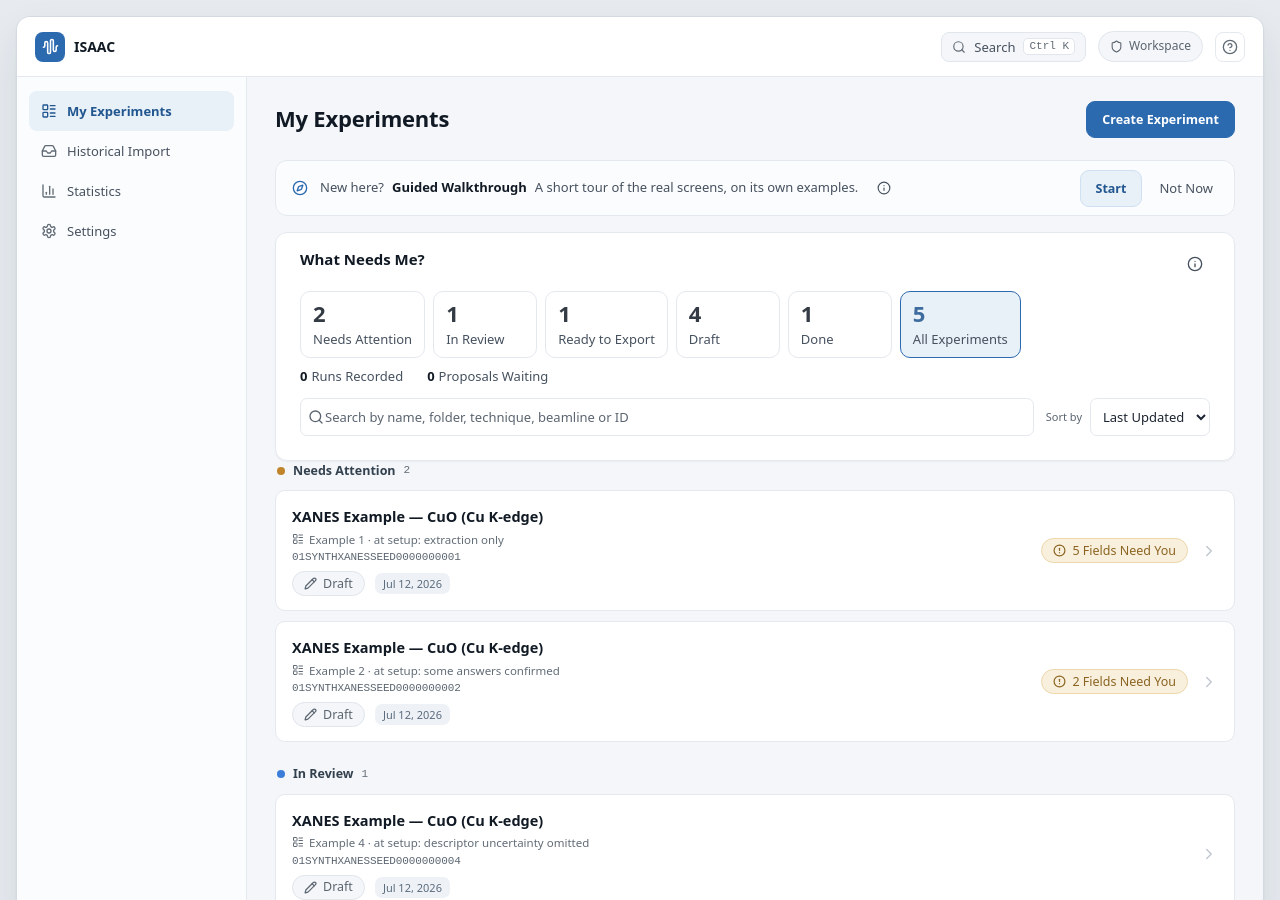
Test case: R0 · the first-run offer on My Experiments › "Skip for Now" hides the offer WITHOUT marking it complete and without nagging
Check: the heading "Guided Walkthrough" is shown, box [392, 179, 527, 197]
What coordinates should you click on to do the following:
click the button "Not Now"
I would click on:
 (1186, 188)
Its box is [1146, 169, 1226, 207].
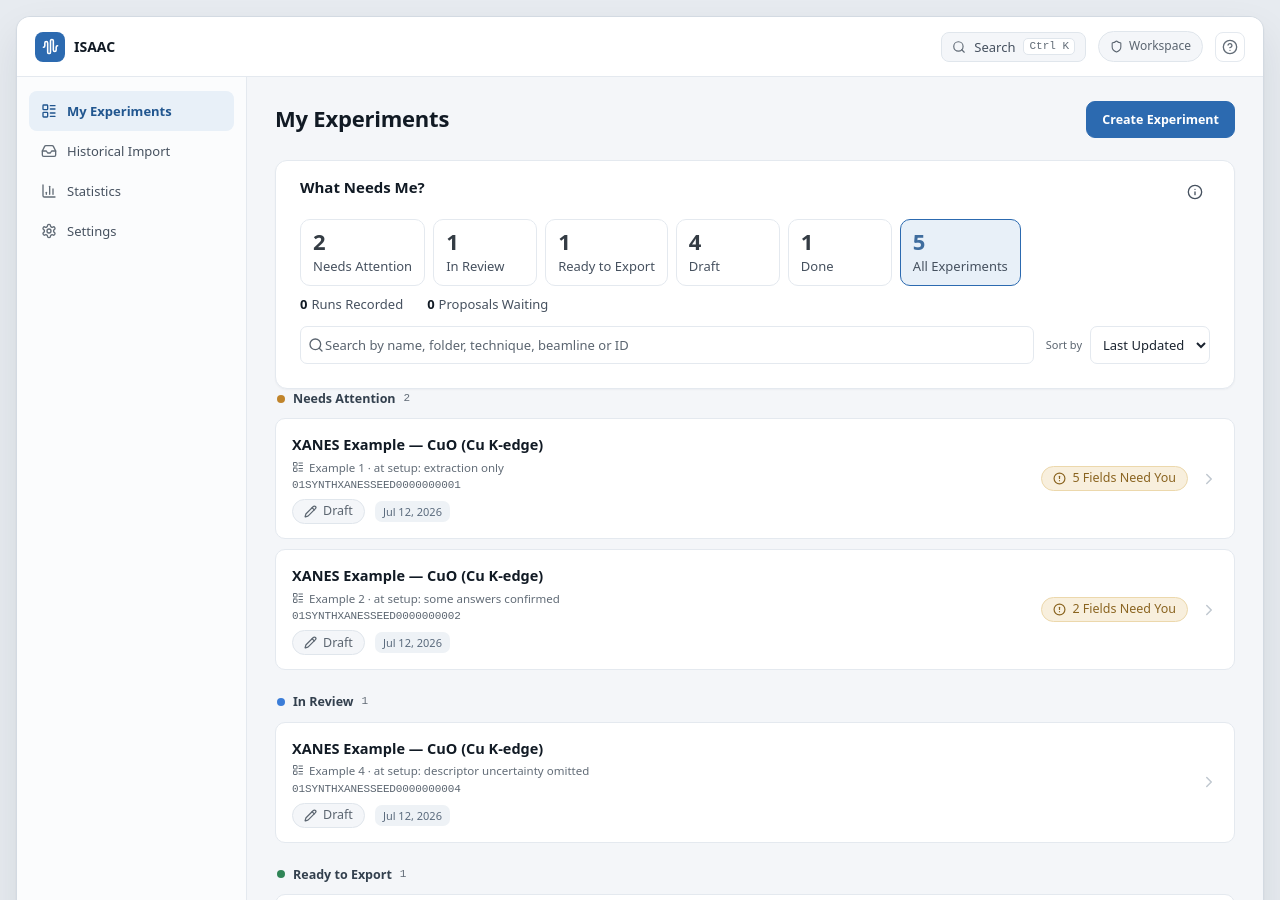
Check: the element with class "tutorial-offer" is gone
